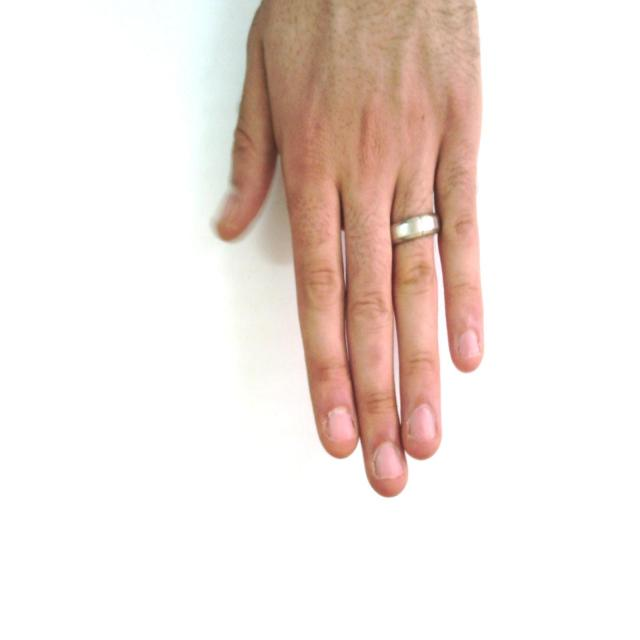others: (204, 1, 519, 506)
